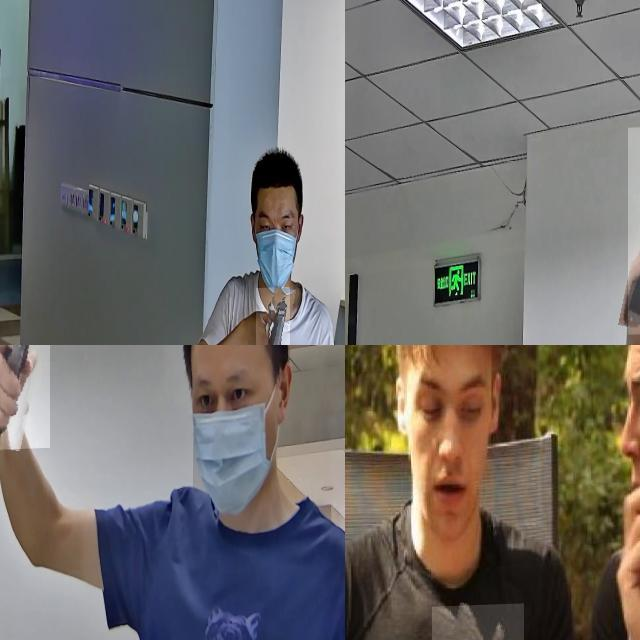gun-knife-thesis - v11 Yolov5 augmented: (0, 345, 49, 452), (256, 289, 289, 345)
